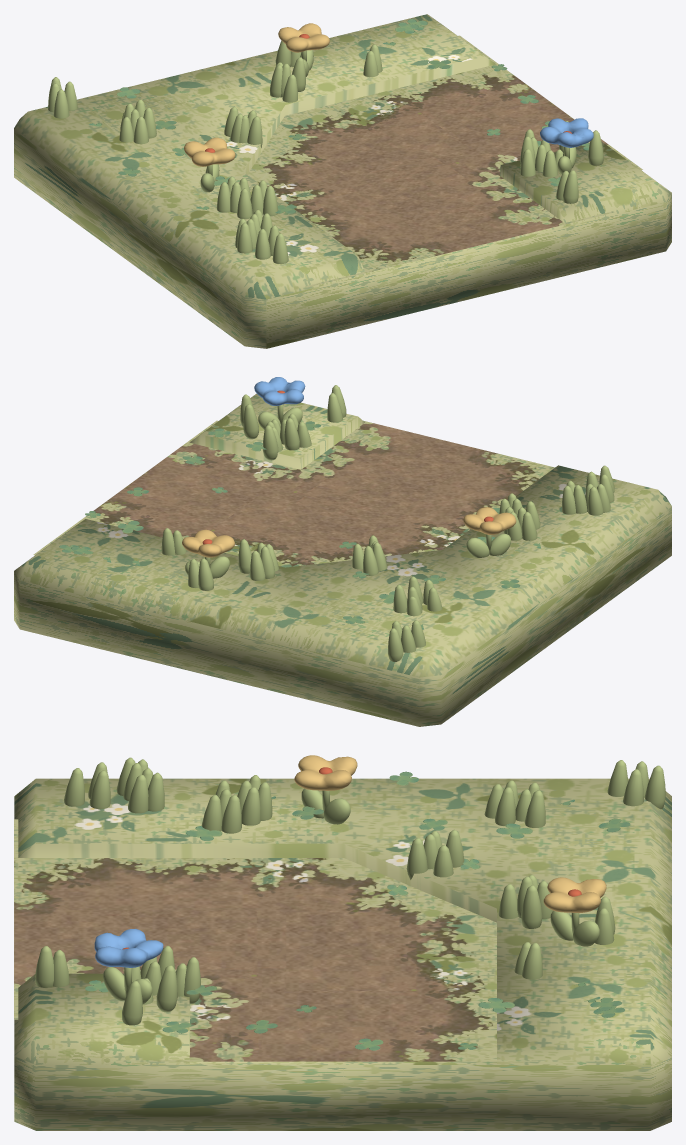
File: croad.fbx
The picture shows the model from 3 angles, top to bottom: view 1: azimuth 30°, elevation 25°; view 2: azimuth 150°, elevation 25°; view 3: azimuth 270°, elevation 25°; orthographic projection. The views are drawn at different scales.
Visible parts, largest first — view 1: Cube.022; view 2: Cube.022; view 3: Cube.022.
Part boxes in pixels (left/top/right/bottom): Cube.022: left=14, top=14, right=671, bottom=348; Cube.022: left=14, top=377, right=671, bottom=726; Cube.022: left=14, top=755, right=671, bottom=1130.
Bounding box in the file's own units: 200 × 48.98 × 200.
Materials: 7 (3 with a texture image).
